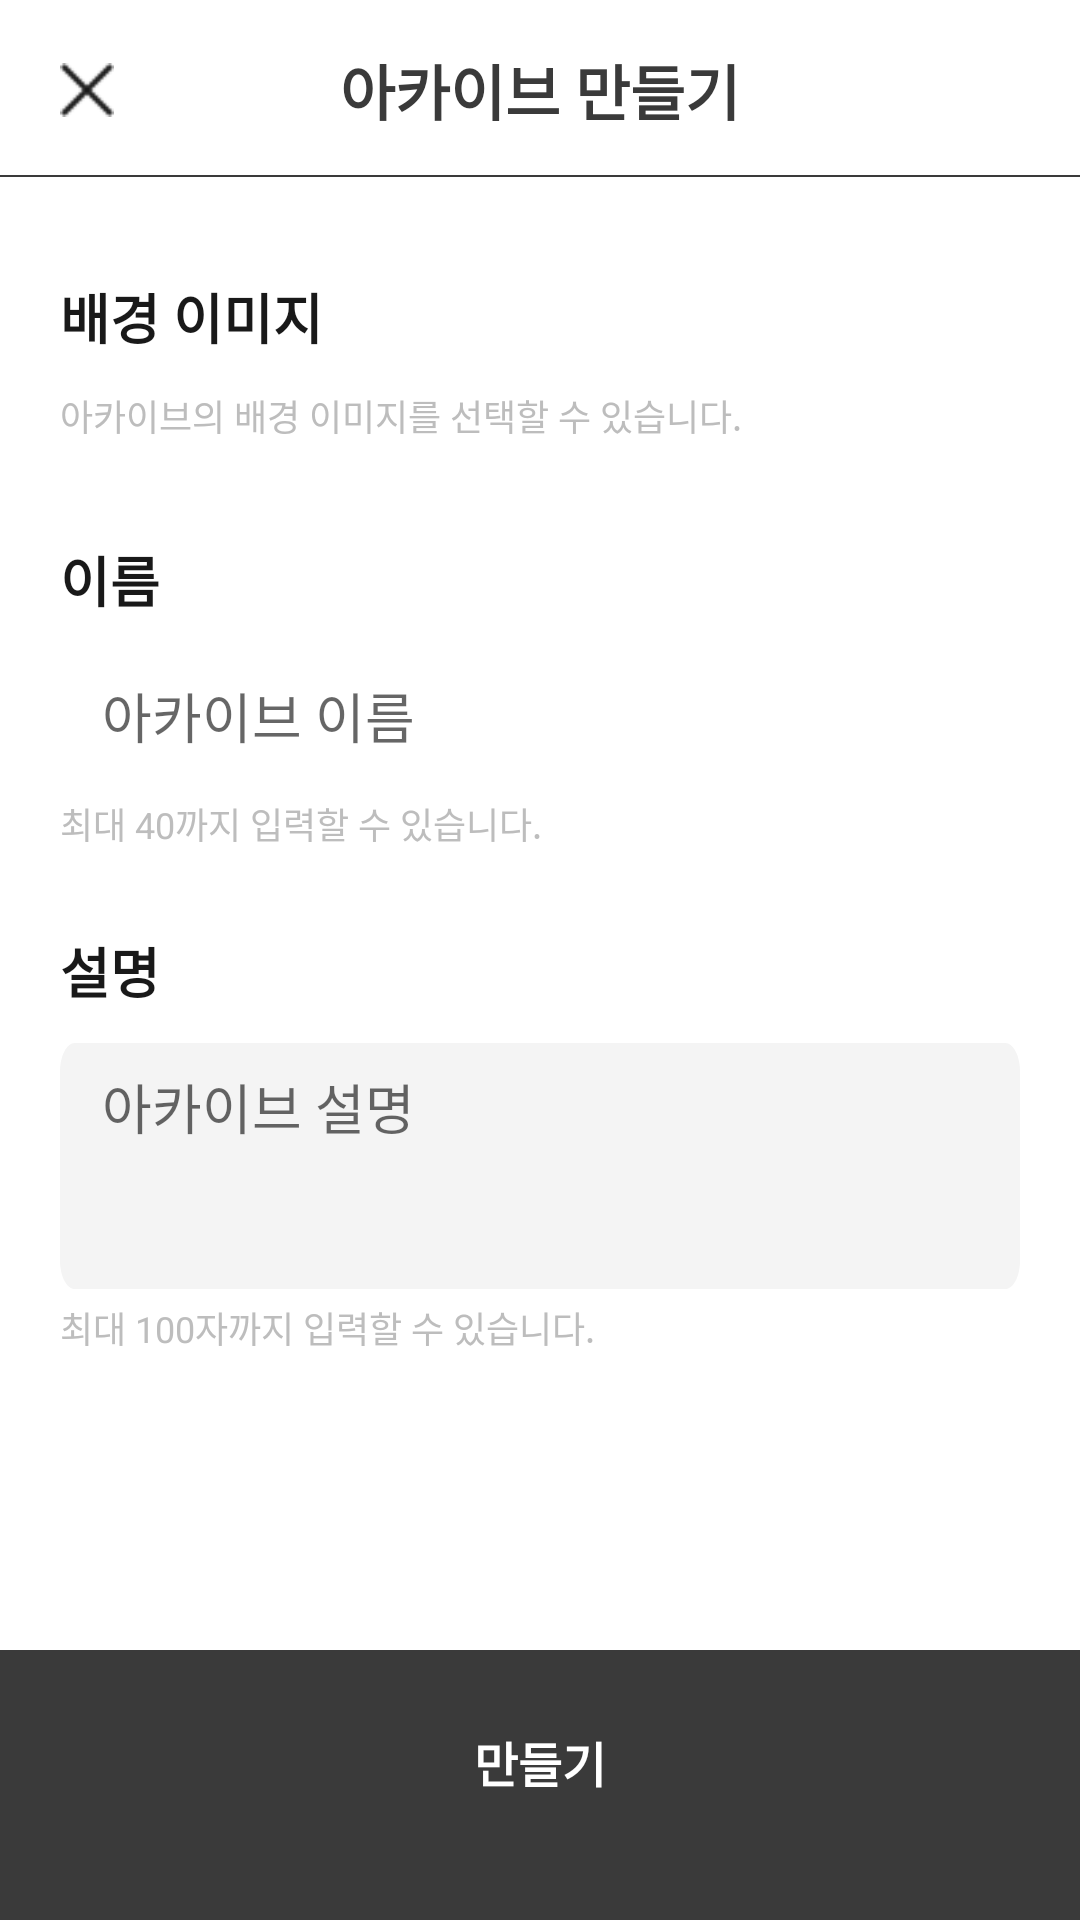

Where icons sit on this 1080px x 1920px app screen, as (x1, y1, x2, y2):
close: (60, 63, 114, 117)
